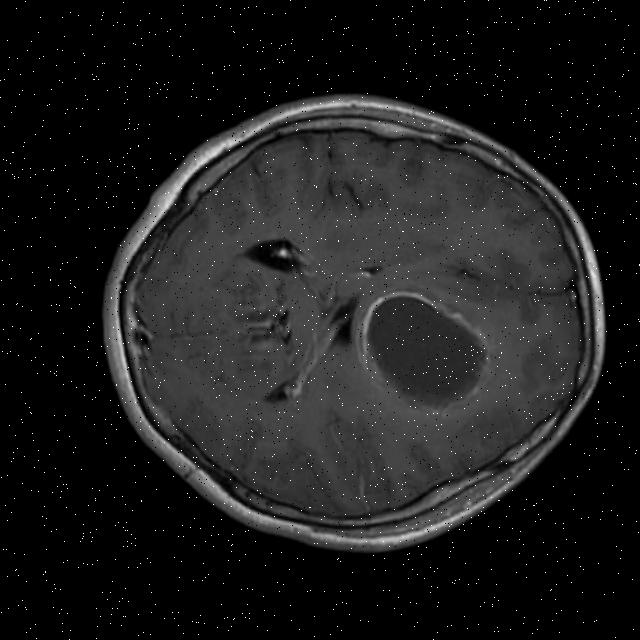Glioma: (351, 277, 503, 429)
